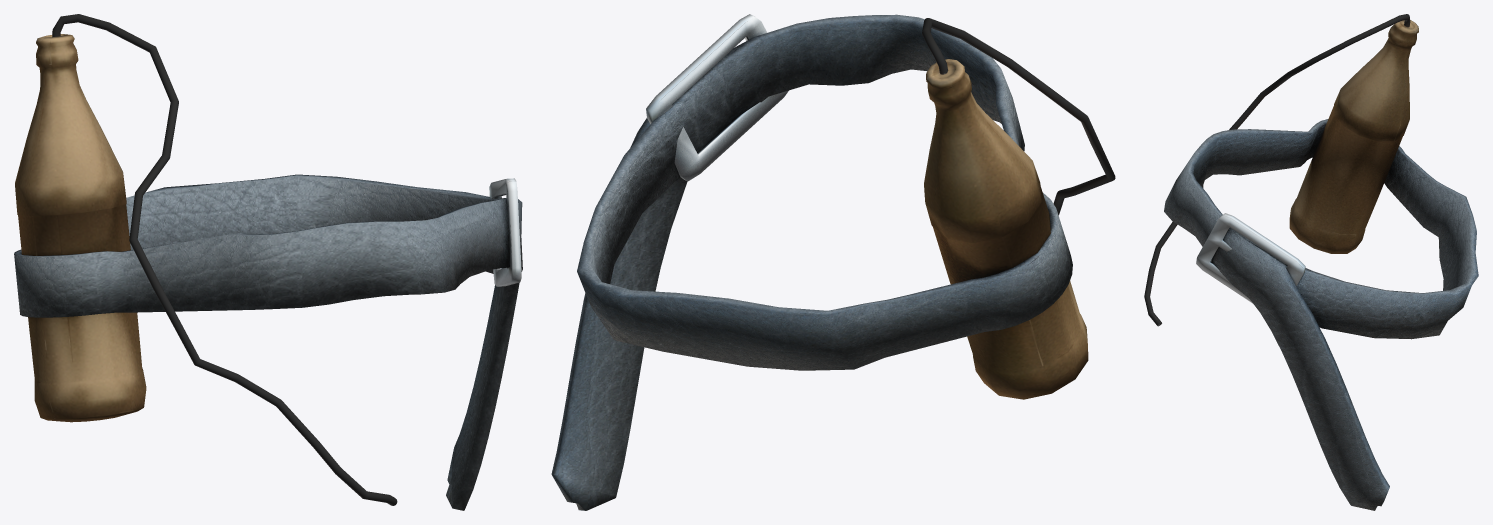
Rendered from SM_BeerHat_00.fbx.
The picture shows the model from 3 angles, left to right: view 1: azimuth 30°, elevation 25°; view 2: azimuth 150°, elevation 25°; view 3: azimuth 270°, elevation 25°; orthographic projection. The views are drawn at different scales.
Visible parts, largest first — view 1: SM_BeerHat_00; view 2: SM_BeerHat_00; view 3: SM_BeerHat_00.
Boxes of the visible parts, left/top/right/bottom form: SM_BeerHat_00: left=14, top=14, right=522, bottom=510; SM_BeerHat_00: left=551, top=14, right=1115, bottom=510; SM_BeerHat_00: left=1144, top=14, right=1478, bottom=510.
Size of the model in its own units: 42.56 by 48.23 by 38.83.
